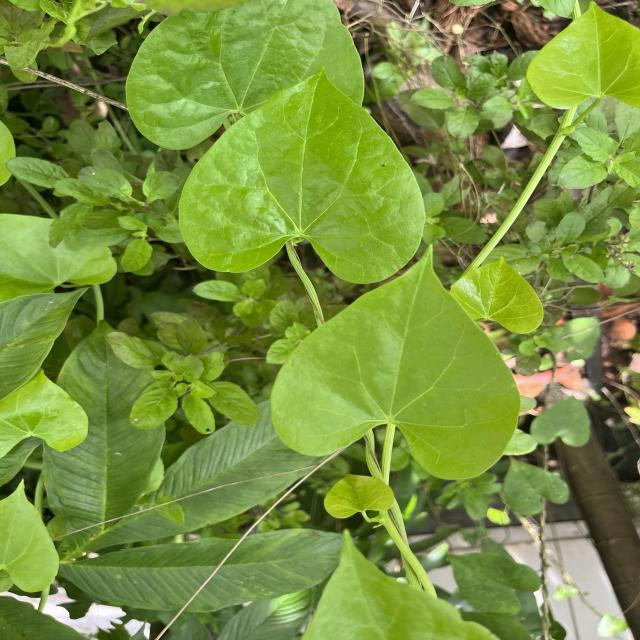Tinospora cordifolia: (268, 240, 526, 483), (176, 64, 430, 289), (123, 0, 368, 154), (522, 0, 640, 112)
